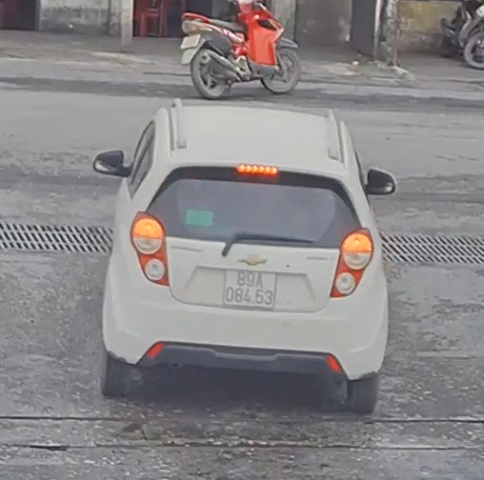vehicle plate: (220, 260, 279, 310)
